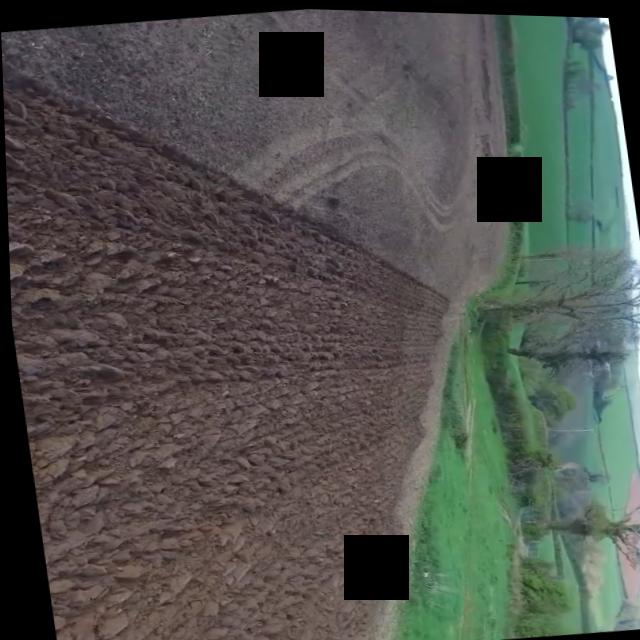Tree: (462, 241, 640, 359)
